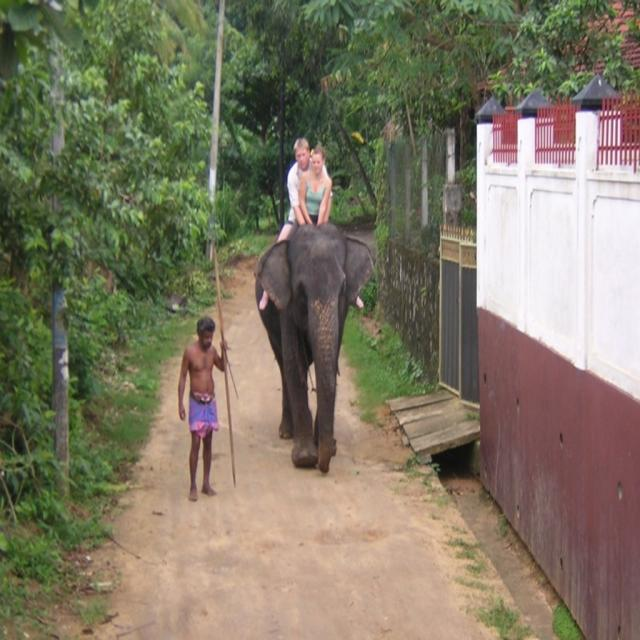Elephant: (254, 221, 374, 472), (296, 142, 332, 221), (290, 131, 316, 225)
person: (178, 316, 230, 501)
